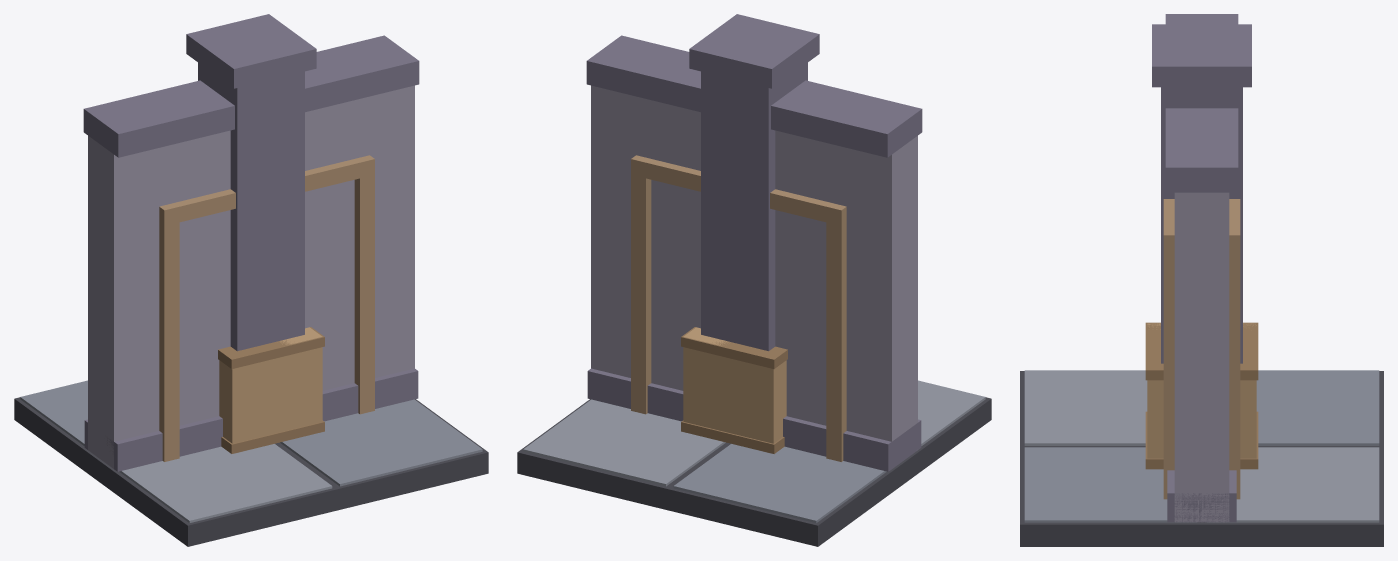
File: dungeon_kit.glb
The picture shows the model from 3 angles, left to right: view 1: azimuth 30°, elevation 25°; view 2: azimuth 150°, elevation 25°; view 3: azimuth 270°, elevation 25°; orthographic projection. The views are drawn at different scales.
Parts seen in each view (by area): view 1: wall, floor_tile, pillar, wall_door, crate; view 2: wall, floor_tile, pillar, wall_door, crate; view 3: floor_tile, wall, pillar, wall_door, crate.
Part boxes in pixels (left/top/right/bottom): wall: left=83, top=35, right=419, bottom=471; floor_tile: left=14, top=380, right=488, bottom=546; pillar: left=186, top=14, right=316, bottom=351; wall_door: left=85, top=100, right=417, bottom=471; crate: left=218, top=327, right=324, bottom=453; wall: left=586, top=35, right=922, bottom=471; floor_tile: left=517, top=380, right=991, bottom=546; pillar: left=689, top=14, right=819, bottom=351; wall_door: left=587, top=86, right=920, bottom=470; crate: left=681, top=327, right=787, bottom=453; floor_tile: left=1020, top=370, right=1383, bottom=546; wall: left=1165, top=14, right=1238, bottom=522; pillar: left=1152, top=24, right=1251, bottom=363; wall_door: left=1163, top=199, right=1240, bottom=499; crate: left=1145, top=322, right=1258, bottom=469.
Size of the model in its own units: 4 by 5.15 by 4.
